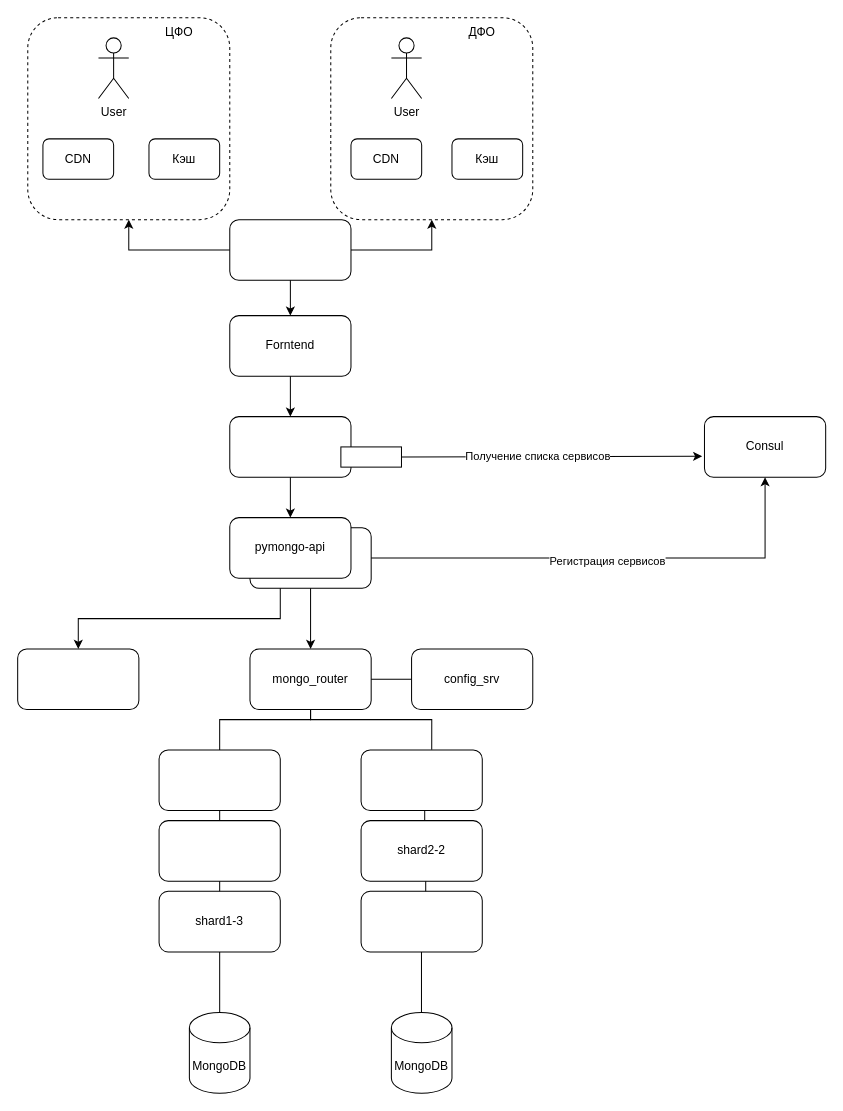
Some shapes in this 843 by 1111 pixel diagram are drawn without their labels. The shapes that lost their labels are listed below. From the top down, each one's box as (x1, y1, x2, y2) in pixels, then its label:
(229, 219, 351, 280): Основной сервер
(229, 416, 351, 477): APISIX Gateway
(340, 446, 401, 467): consul_kv
(17, 648, 139, 710): redis1
(158, 749, 280, 811): shard1
(360, 749, 482, 811): shard2
(158, 820, 280, 881): shard1-2
(360, 890, 482, 952): shard2-3
